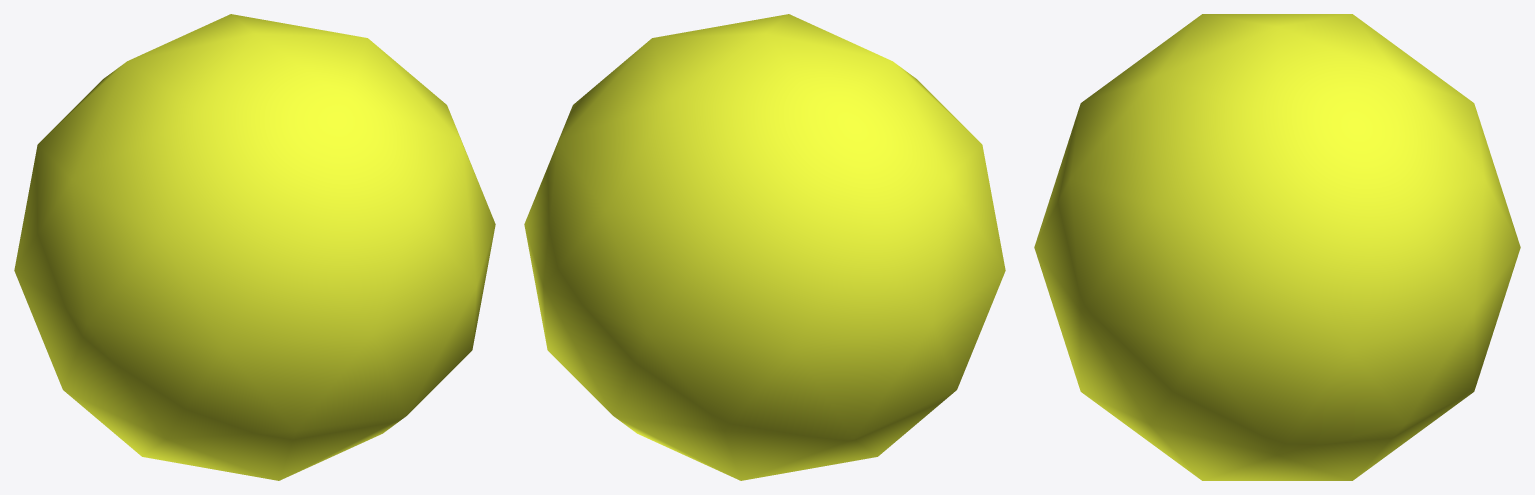
Rendered from spark1.fbx.
The picture shows the model from 3 angles, left to right: view 1: azimuth 30°, elevation 25°; view 2: azimuth 150°, elevation 25°; view 3: azimuth 270°, elevation 25°; orthographic projection. The views are drawn at different scales.
Parts seen in each view (by area): view 1: Sphere; view 2: Sphere; view 3: Sphere.
Part boxes in pixels (x1,y1,x2,y2): Sphere: (14, 14, 495, 480); Sphere: (524, 14, 1005, 480); Sphere: (1034, 14, 1520, 480).
Size of the model in its own units: 1 by 1 by 1.
1 material, 1 textured.
